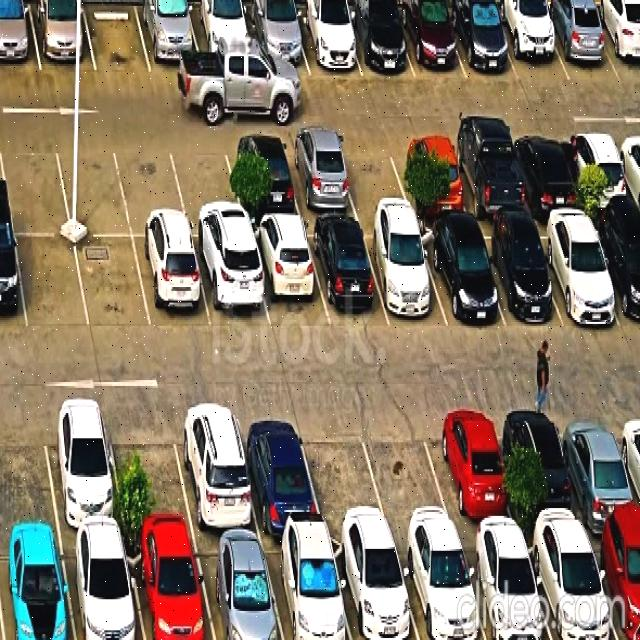empty: (358, 406, 458, 536), (297, 408, 391, 535), (106, 405, 195, 535), (168, 136, 246, 237), (54, 137, 132, 236), (0, 404, 58, 535), (115, 138, 190, 236), (75, 237, 151, 331), (15, 236, 89, 330), (0, 136, 71, 233), (335, 136, 411, 214), (83, 1, 151, 73)
occupied: (426, 405, 519, 535), (171, 403, 260, 535), (234, 407, 324, 534), (501, 404, 587, 534), (40, 403, 125, 534), (555, 404, 640, 532), (524, 532, 617, 640), (459, 536, 552, 640), (394, 536, 486, 640), (532, 217, 622, 323), (193, 538, 284, 640), (330, 537, 419, 640), (262, 537, 351, 640), (472, 224, 561, 326), (417, 224, 505, 327), (126, 538, 214, 640), (361, 223, 447, 327), (248, 223, 329, 330), (305, 222, 389, 325), (61, 536, 144, 640), (0, 536, 74, 640), (133, 238, 212, 329), (192, 239, 270, 329), (447, 135, 529, 217), (224, 137, 302, 219), (392, 136, 470, 215), (539, 5, 620, 81), (282, 137, 358, 217), (492, 5, 569, 83), (587, 529, 640, 640), (560, 131, 634, 210), (508, 132, 582, 211), (589, 217, 640, 329), (445, 3, 518, 80), (396, 2, 466, 79), (342, 6, 415, 77), (187, 4, 258, 74), (135, 2, 204, 74), (291, 8, 362, 76), (29, 2, 96, 71), (243, 8, 309, 74), (591, 7, 640, 81), (0, 2, 41, 70), (0, 231, 27, 330)
